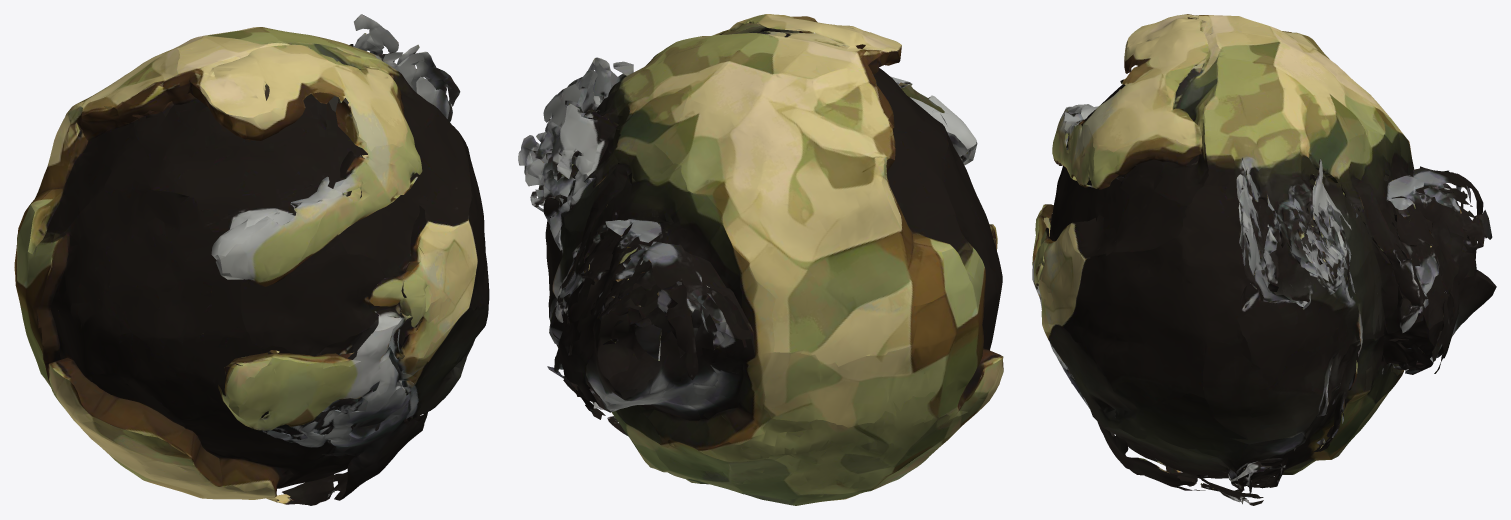
File: item_heart_demon_essence.glb
The picture shows the model from 3 angles, left to right: view 1: azimuth 30°, elevation 25°; view 2: azimuth 150°, elevation 25°; view 3: azimuth 270°, elevation 25°; orthographic projection. The views are drawn at different scales.
Parts seen in each view (by area): view 1: item_heart_demon_essence; view 2: item_heart_demon_essence; view 3: item_heart_demon_essence.
Boxes of the visible parts, x1,y1,x2,y2 form: item_heart_demon_essence: (14,14,489,505); item_heart_demon_essence: (518,14,1003,505); item_heart_demon_essence: (1032,14,1496,505).
Size of the model in its own units: 0.0994 by 0.1 by 0.098.
1 material, 1 textured.
